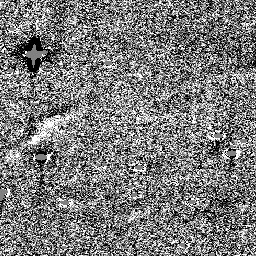LE: (18, 104, 76, 146)
